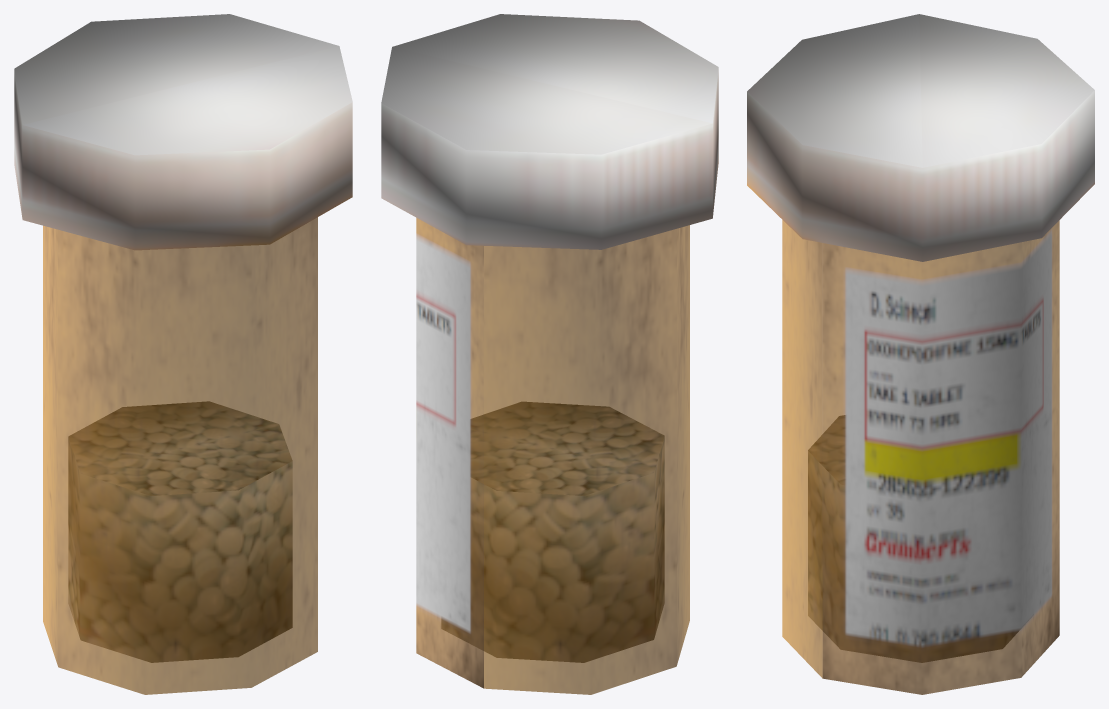
3 renders of one model, left to right at view 1: azimuth 30°, elevation 25°; view 2: azimuth 150°, elevation 25°; view 3: azimuth 270°, elevation 25°, orthographic.
Parts seen in each view (by area): view 1: Bottle; view 2: Bottle; view 3: Bottle.
Boxes of the visible parts, <box> form: Bottle: <box>14,14,352,694</box>; Bottle: <box>381,14,718,694</box>; Bottle: <box>747,14,1094,694</box>.
Bounding box in the file's own units: 0.7132 × 1.18 × 0.6812.
1 material, 1 textured.
